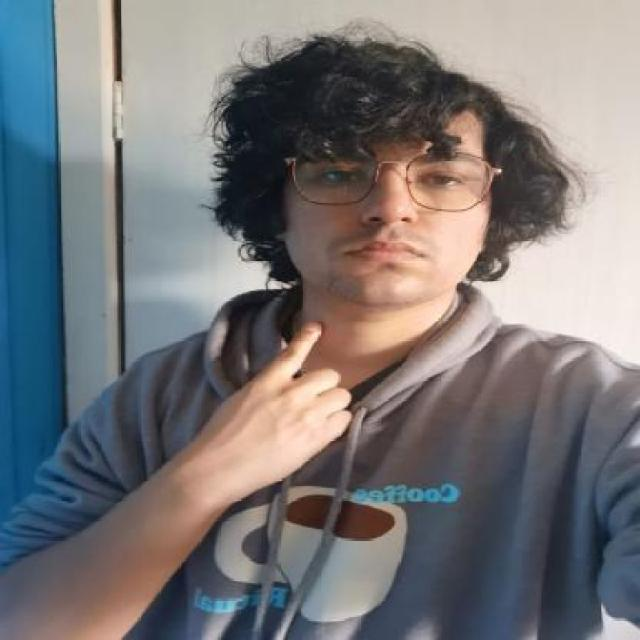Q: (201, 320, 356, 482)
